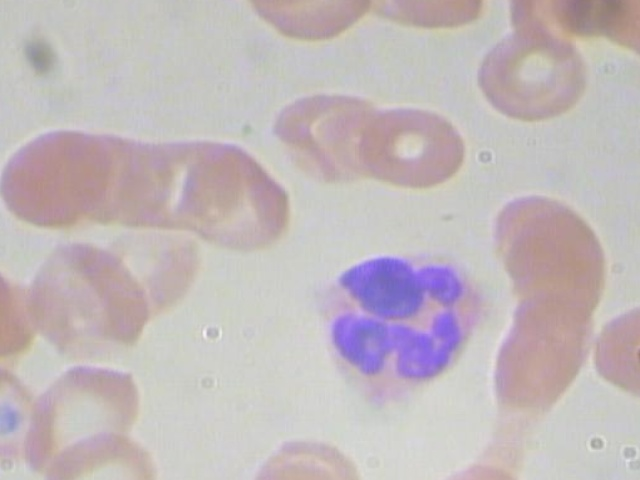RBC: (21, 237, 155, 363), (185, 137, 299, 263), (469, 24, 600, 132), (0, 124, 121, 232), (270, 81, 386, 189), (487, 294, 594, 410), (502, 205, 609, 321), (361, 99, 467, 196), (37, 418, 162, 480), (587, 294, 640, 407), (0, 361, 49, 458), (237, 451, 368, 480), (413, 458, 540, 480), (636, 35, 640, 129)
WBC: (298, 242, 496, 410)
